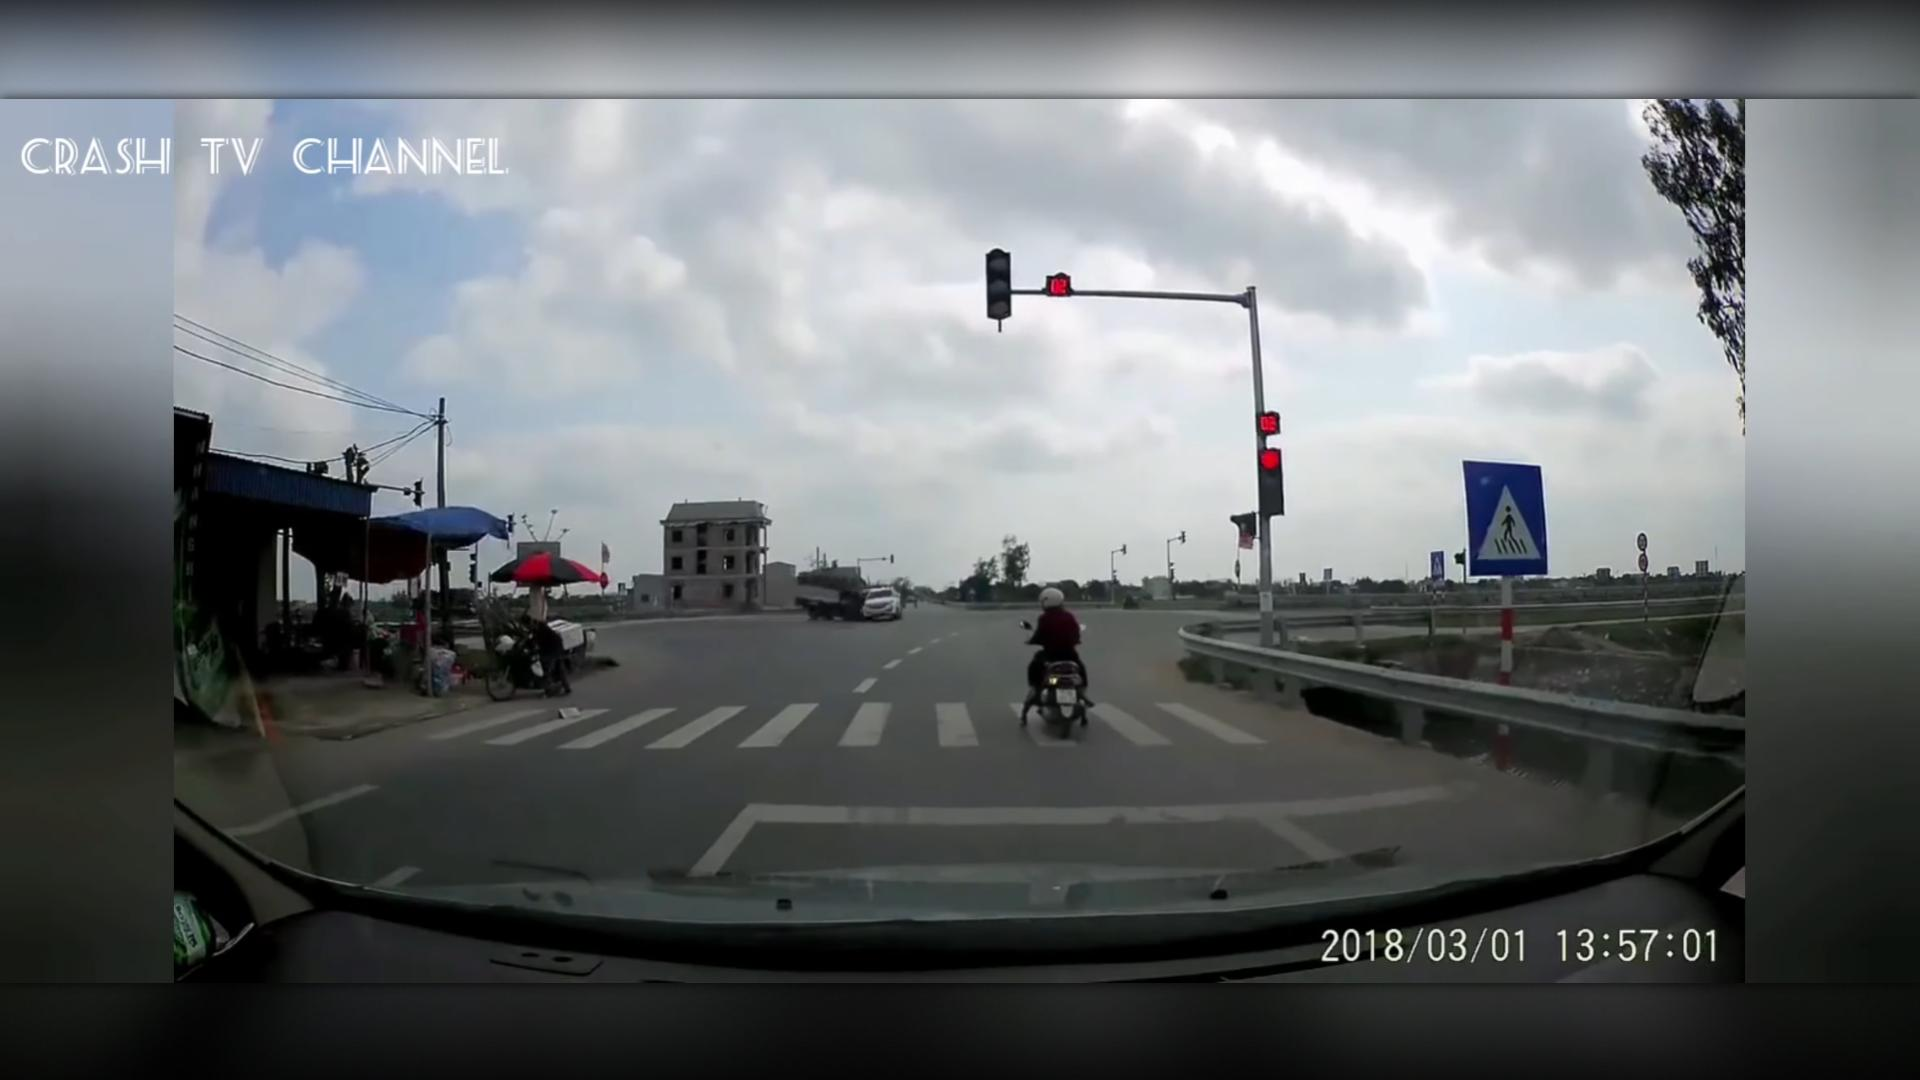accident: (774, 556, 922, 632), (779, 568, 868, 624)
car: (851, 579, 893, 621)
crosswalk: (426, 688, 1269, 760)
motorcycle: (1009, 578, 1102, 748)
